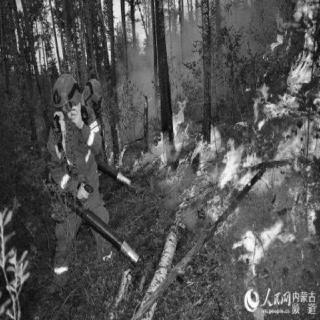Fire: (252, 1, 316, 90)
